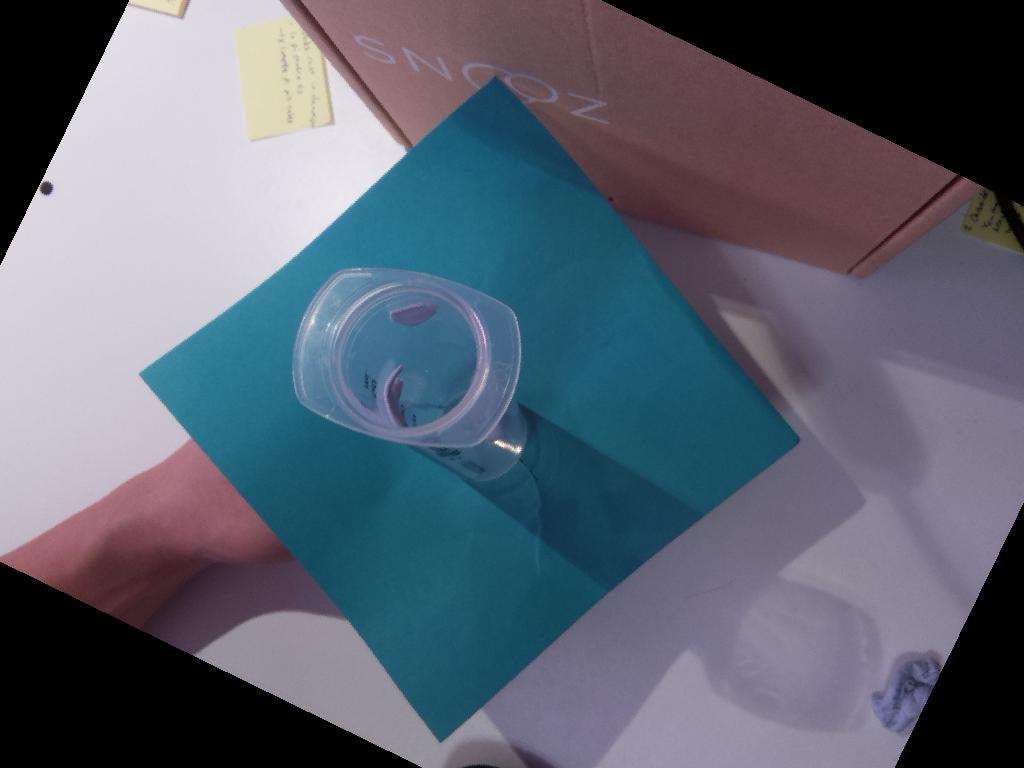dirty: (291, 267, 523, 448)
